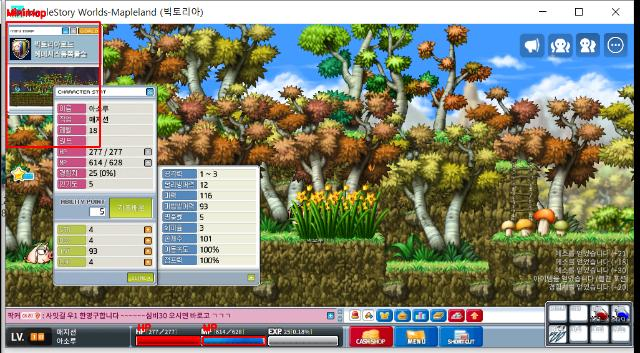me: (284, 202, 326, 245)
pig: (23, 240, 52, 264)
